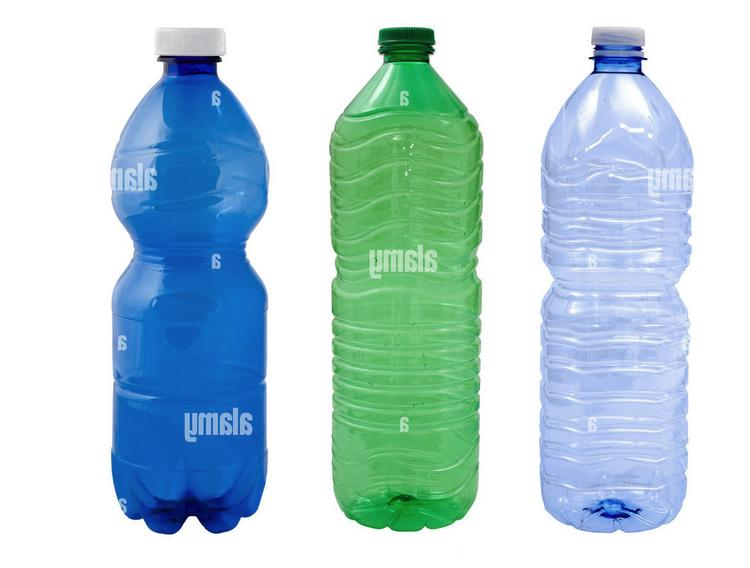Plastic: (320, 20, 502, 546), (531, 9, 706, 548), (103, 23, 275, 544)
